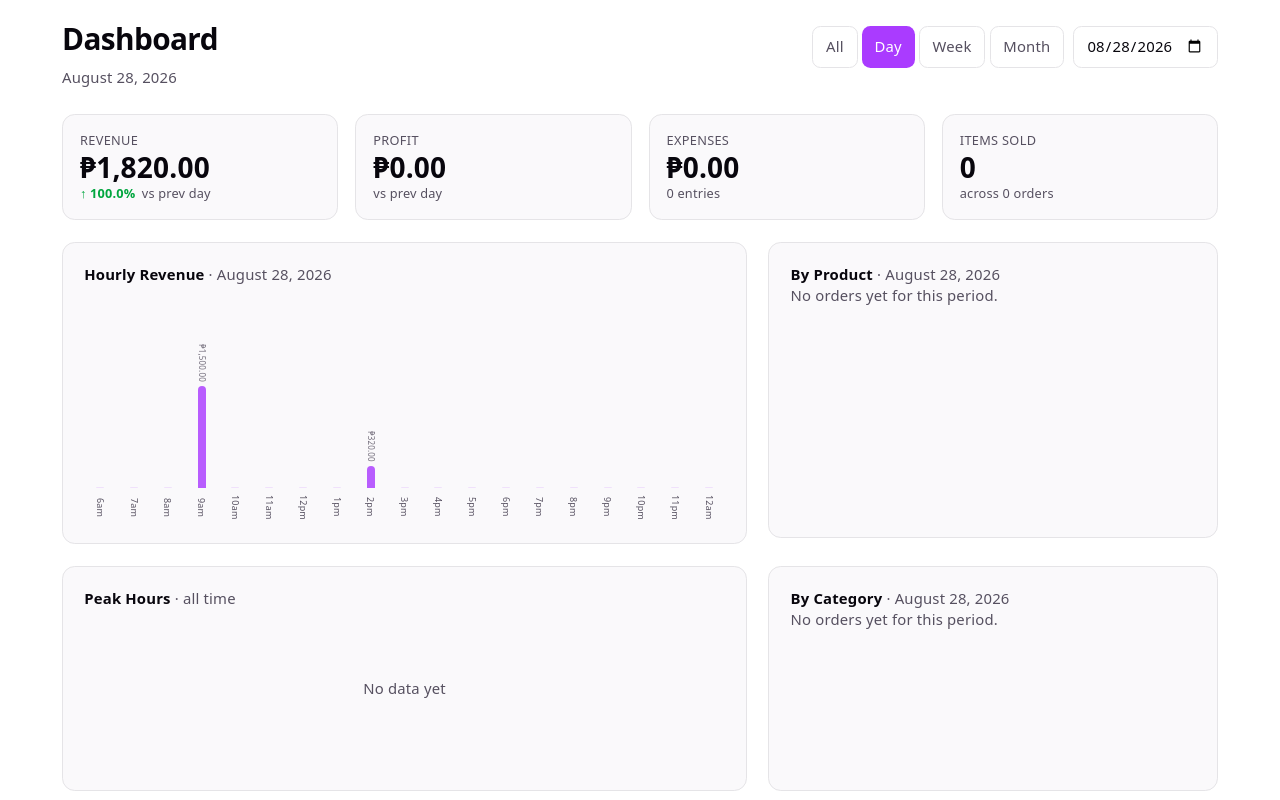
DashboardPage revenue trend › reads out a bar's value when it is tapped
Expected: the text "2pm · ₱320.00" is not shown
Click the button with aria-label "2pm: ₱320.00". click: (371,412)
box: [355, 302, 387, 522]
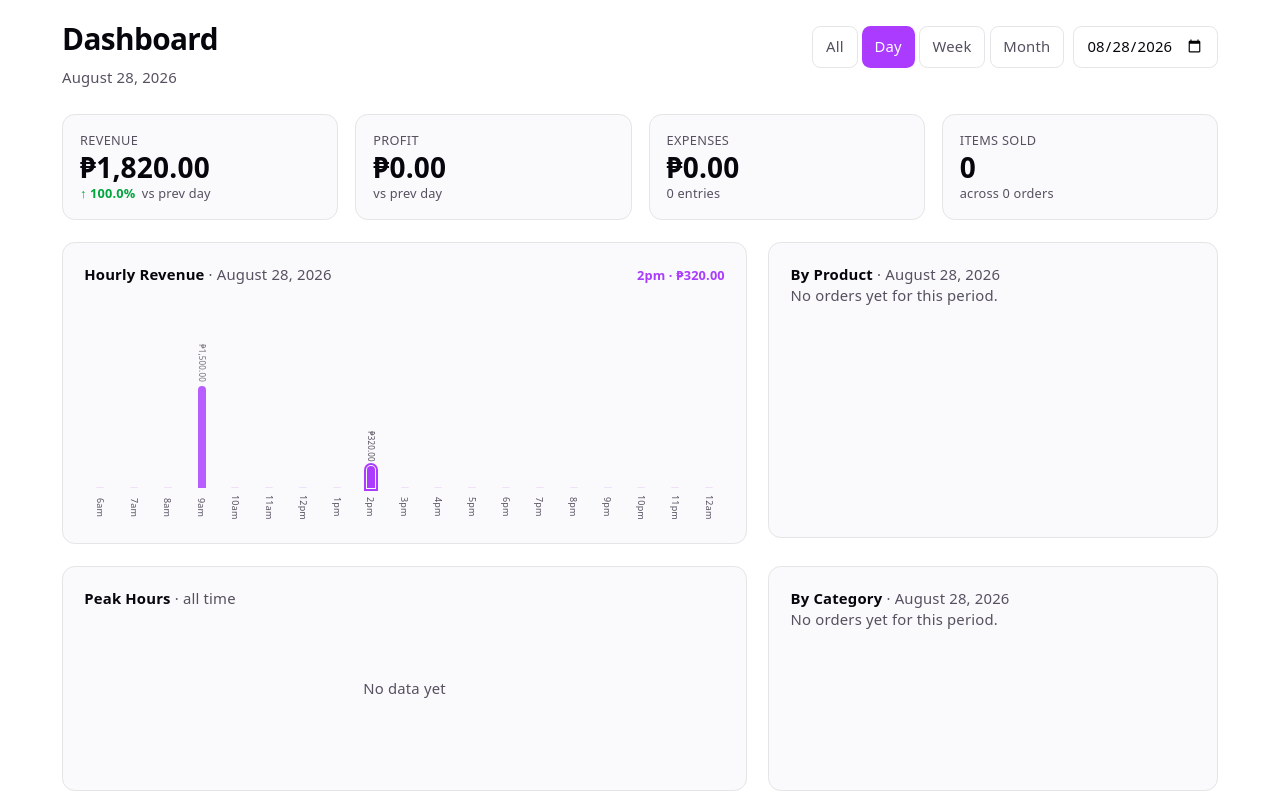
Expected: the text "2pm · ₱320.00" is shown, [637, 267, 725, 284]
